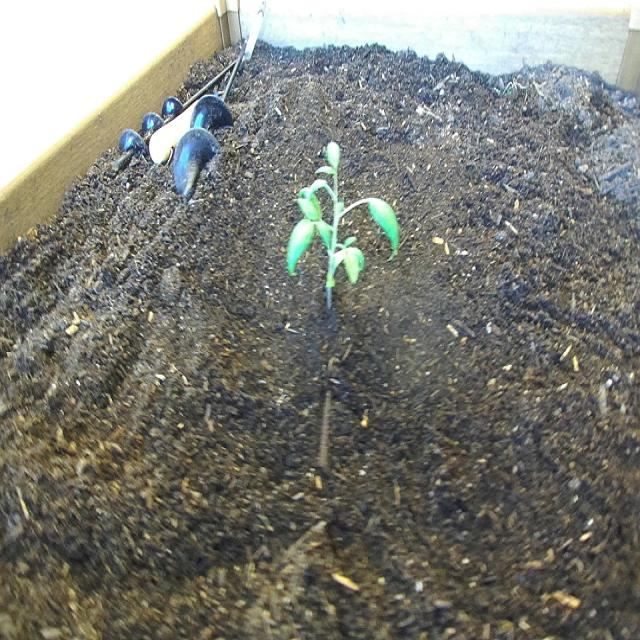Healthy: (280, 130, 408, 328)
